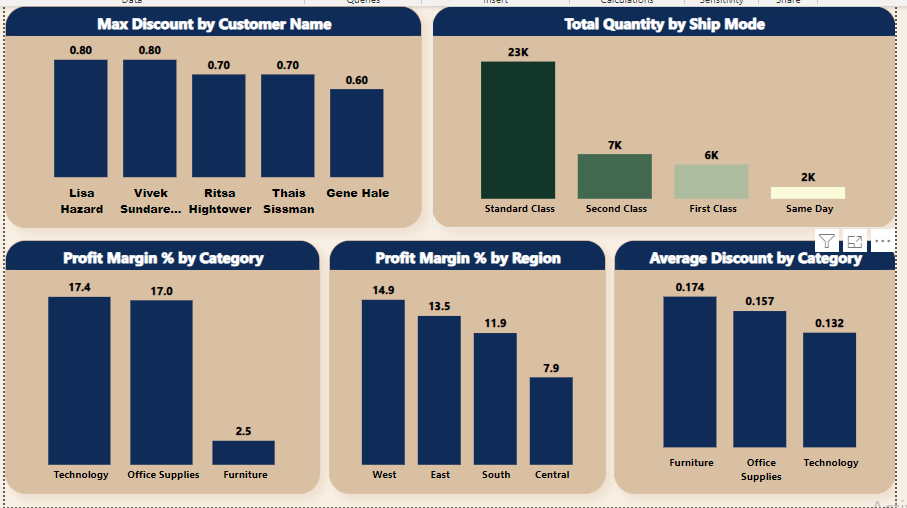

What the dashboard file says about the page in this screenshot:
{"tool":"powerbi","page":{"name":"Page 3","canvas":[1280,720],"ordinal":2},"visuals":[{"type":"clusteredColumnChart","fields":{"Y":["DAX.Average Discount"],"Category":["Dim Product.Category"]},"box":[875.2,336.3,405.3,365],"z":0},{"type":"clusteredColumnChart","fields":{"Y":["DAX.Total Quantity"],"Category":["Dim ShipMode.Ship Mode"]},"box":[613.7,0,666.8,319],"z":1000},{"type":"clusteredColumnChart","fields":{"Y":["DAX.Profit Margin %"],"Category":["Dim Product.Category"]},"box":[0,336.3,452.7,365],"z":2000},{"type":"clusteredColumnChart","fields":{"Category":["DimLocation.Region"],"Y":["DAX.Profit Margin %"]},"box":[465.6,336.3,398.1,365],"z":3000},{"type":"clusteredColumnChart","fields":{"Category":["Dim Customer.Customer Name"],"Y":["DAX.Max Discount"]},"box":[0,0,599.3,319],"z":4000}]}

Visuals, with their boxes on the page's 1280x720 design canvas (x1, y1, x2, y2). These are canvas units, not pixel positions in the 907x508 screenshot, which may show the page scaled, cropped or inside an application window:
clusteredColumnChart - DAX.Average Discount x Dim Product.Category: bbox=(875, 336, 1280, 701)
clusteredColumnChart - DAX.Total Quantity x Dim ShipMode.Ship Mode: bbox=(614, 0, 1280, 319)
clusteredColumnChart - DAX.Profit Margin % x Dim Product.Category: bbox=(0, 336, 453, 701)
clusteredColumnChart - DimLocation.Region x DAX.Profit Margin %: bbox=(466, 336, 864, 701)
clusteredColumnChart - Dim Customer.Customer Name x DAX.Max Discount: bbox=(0, 0, 599, 319)
